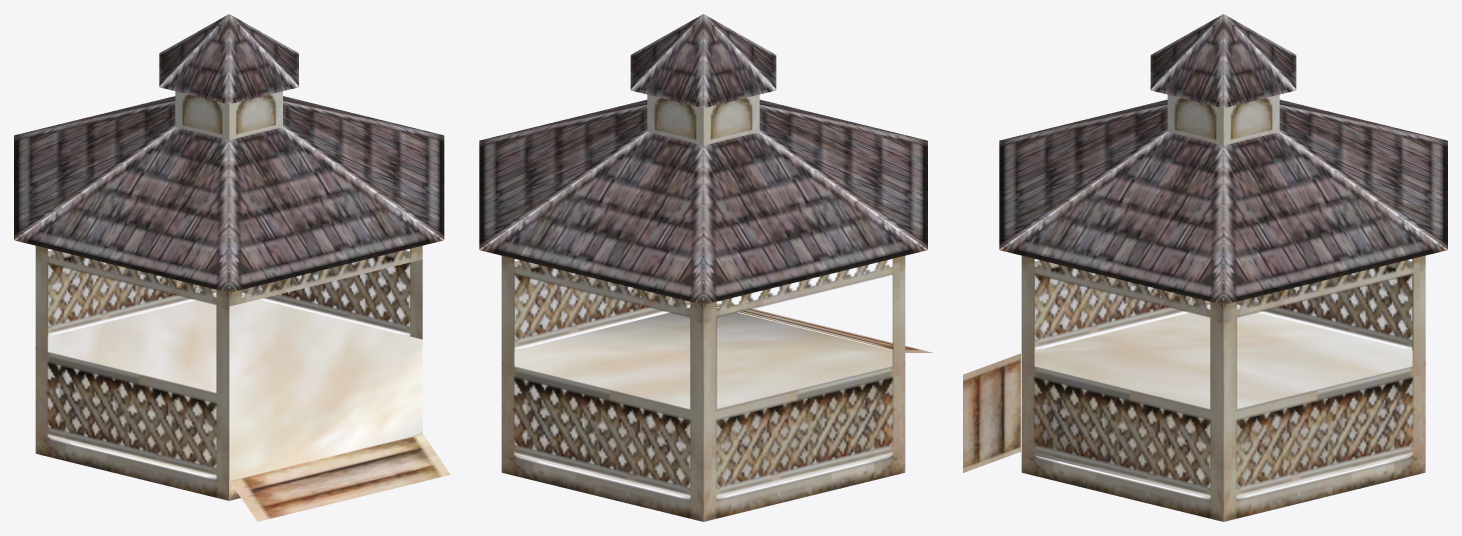
The model's file is Environment - Prop - Park Pavilion - PMPvilion.glb.
The picture shows the model from 3 angles, left to right: view 1: azimuth 30°, elevation 25°; view 2: azimuth 150°, elevation 25°; view 3: azimuth 270°, elevation 25°; orthographic projection. The views are drawn at different scales.
Parts seen in each view (by area): view 1: PMPVILION; view 2: PMPVILION; view 3: PMPVILION.
Boxes of the visible parts, bbox=[...] form: PMPVILION: bbox=[14, 14, 450, 521]; PMPVILION: bbox=[479, 14, 932, 521]; PMPVILION: bbox=[963, 14, 1447, 521].
Bounding box in the file's own units: 31.27 × 27.3 × 29.27.
Materials: 1 (1 with a texture image).
